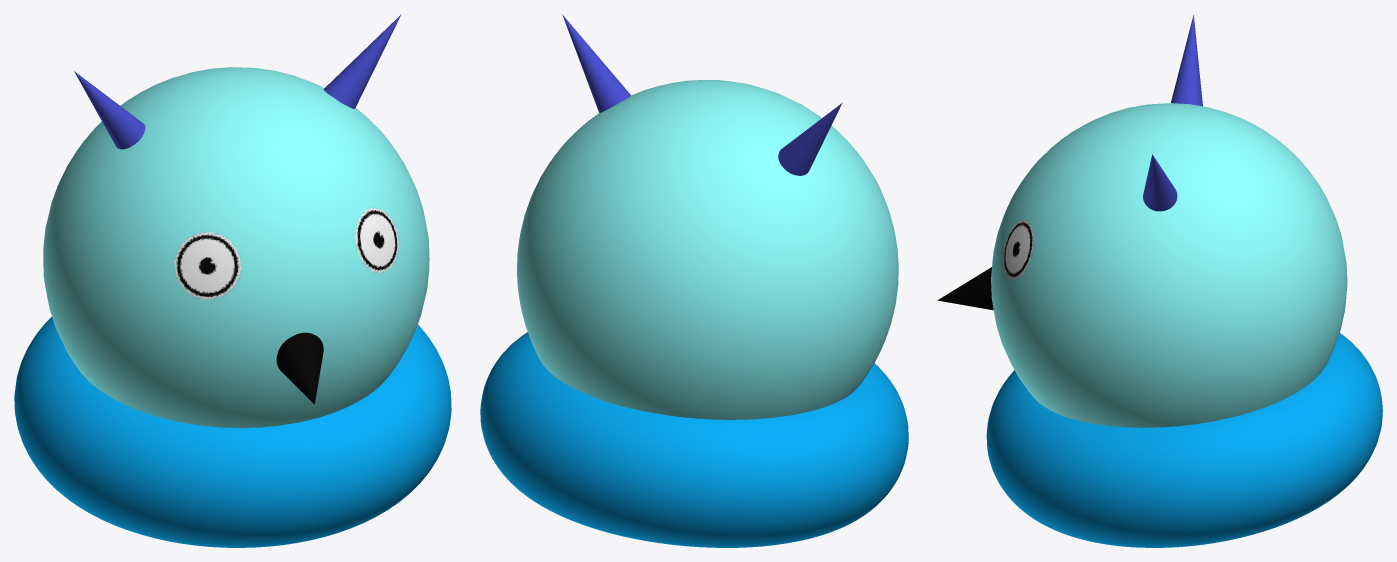
File: blue.fbx
3 renders of one model, left to right at view 1: azimuth 30°, elevation 25°; view 2: azimuth 150°, elevation 25°; view 3: azimuth 270°, elevation 25°, orthographic. The views are drawn at different scales.
Visible parts, largest first — view 1: root (×5); view 2: root (×4); view 3: root (×5).
Part boxes in pixels (<box>): root (×5): <box>14,14,451,547</box>; root (×4): <box>480,14,908,547</box>; root (×5): <box>937,15,1382,547</box>.
Size of the model in its own units: 0.2336 by 0.2624 by 0.256.
5 materials, 5 textured.
